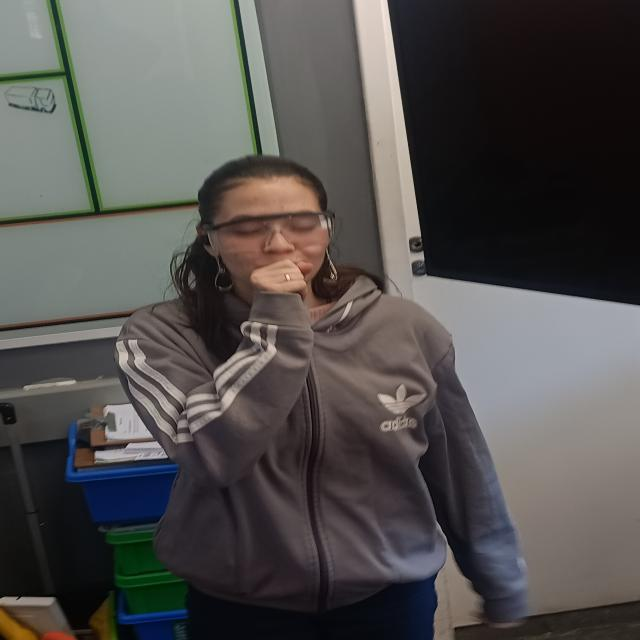oculos-epi: (198, 209, 336, 254)
